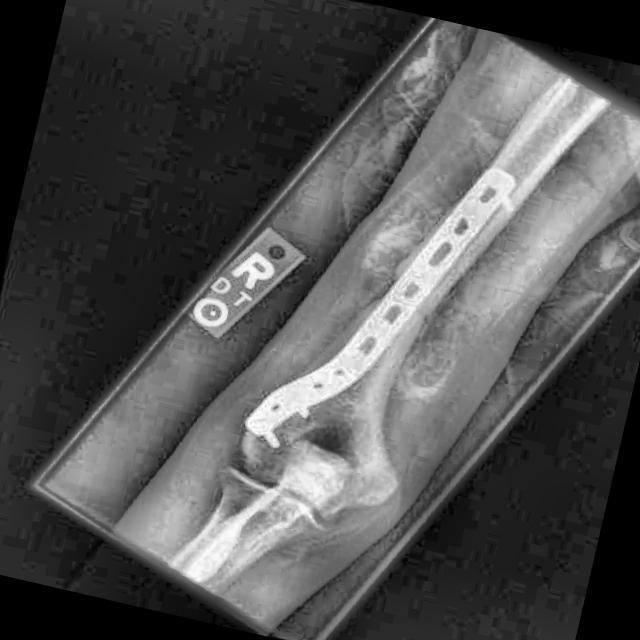elbow positive: (403, 298, 444, 335)
